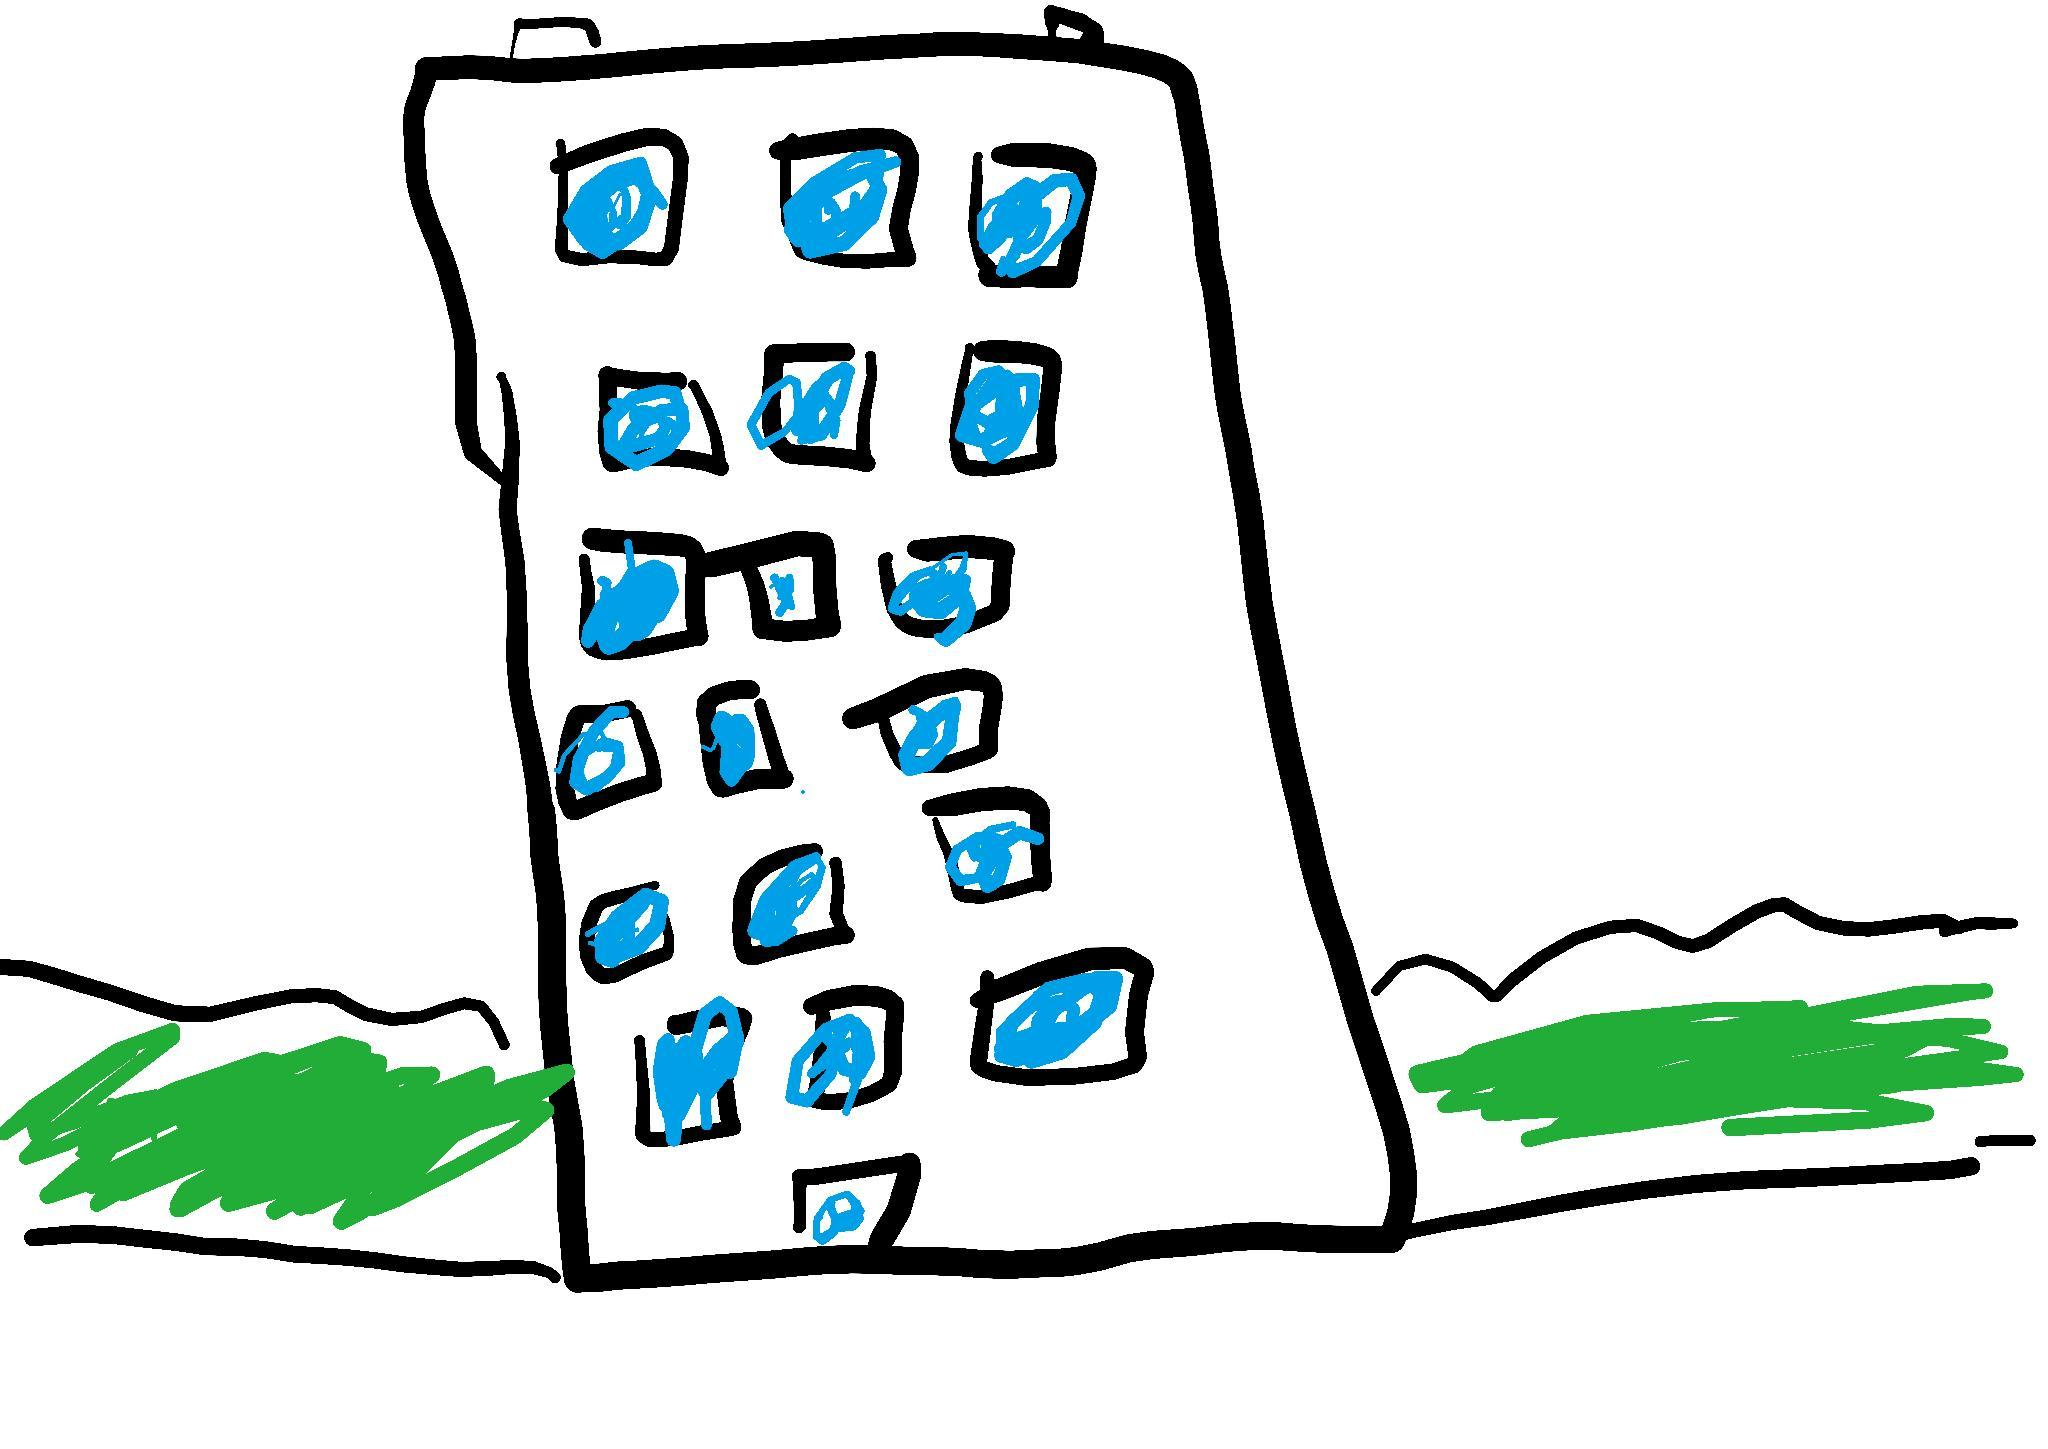chimney: (508, 14, 601, 53), (1044, 2, 1106, 41)
door: (790, 1145, 927, 1270)
house: (395, 0, 1430, 1287)
wall: (430, 58, 1422, 1287)
window: (971, 949, 1156, 1087), (772, 125, 919, 267), (547, 125, 688, 263), (969, 140, 1098, 285), (634, 997, 751, 1149), (579, 527, 706, 660), (746, 340, 877, 467), (950, 339, 1060, 475), (787, 986, 902, 1117), (732, 845, 855, 964), (924, 787, 1051, 902), (880, 538, 1015, 645), (873, 668, 1004, 776), (594, 365, 726, 472), (554, 703, 660, 819), (731, 530, 837, 641), (696, 681, 793, 797), (579, 881, 673, 983)
